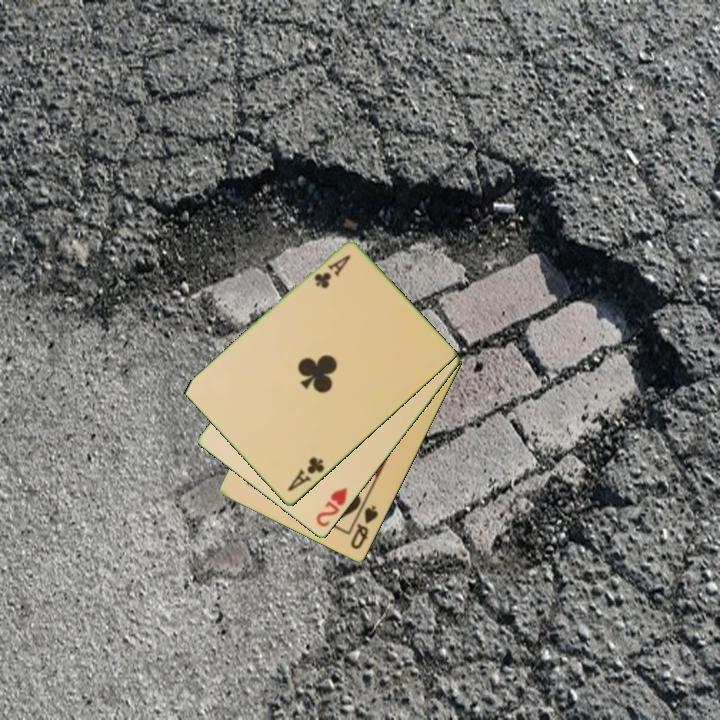2h: (312, 484, 351, 530)
Ac: (284, 454, 327, 495), (310, 252, 354, 292)
Qs: (347, 502, 382, 553)
